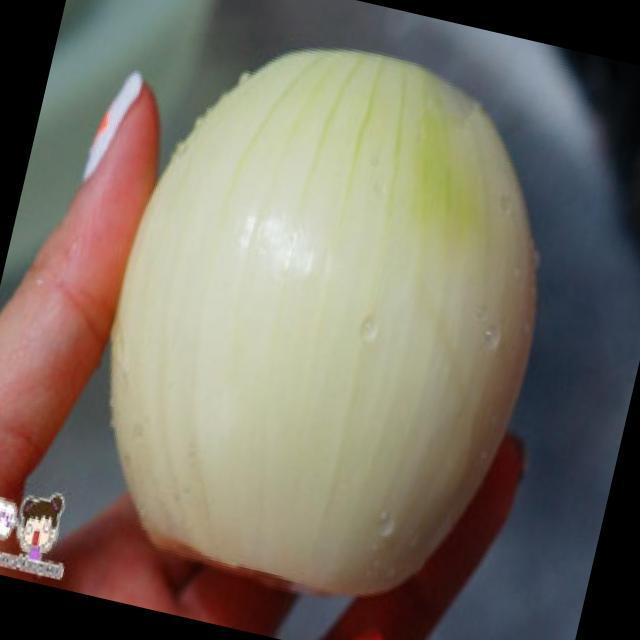Onion: (108, 48, 541, 591)
